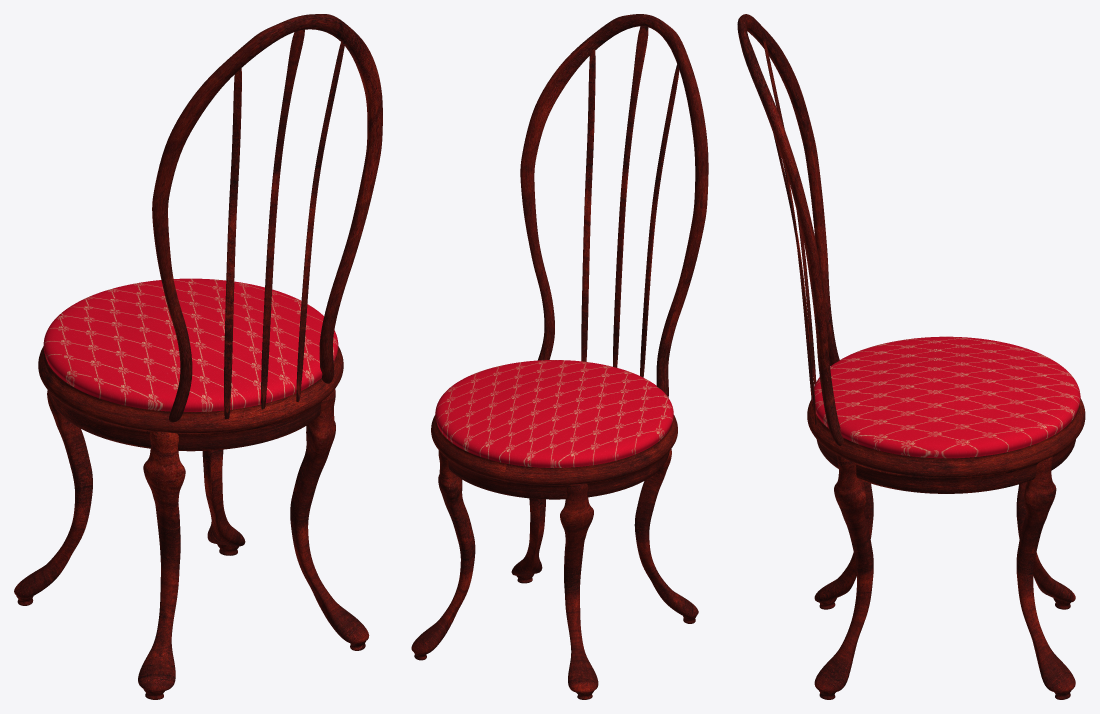
File: luxuriously-Chair_00.fbx
The picture shows the model from 3 angles, left to right: view 1: azimuth 30°, elevation 25°; view 2: azimuth 150°, elevation 25°; view 3: azimuth 270°, elevation 25°; orthographic projection. The views are drawn at different scales.
Visible parts, largest first — view 1: Cube.003; view 2: Cube.003; view 3: Cube.003.
Part boxes in pixels (box(x1,y1,x2,y2)): Cube.003: box(14, 14, 382, 699); Cube.003: box(411, 14, 708, 699); Cube.003: box(737, 14, 1085, 699).
Bounding box in the file's own units: 61.17 × 153 × 76.48.
